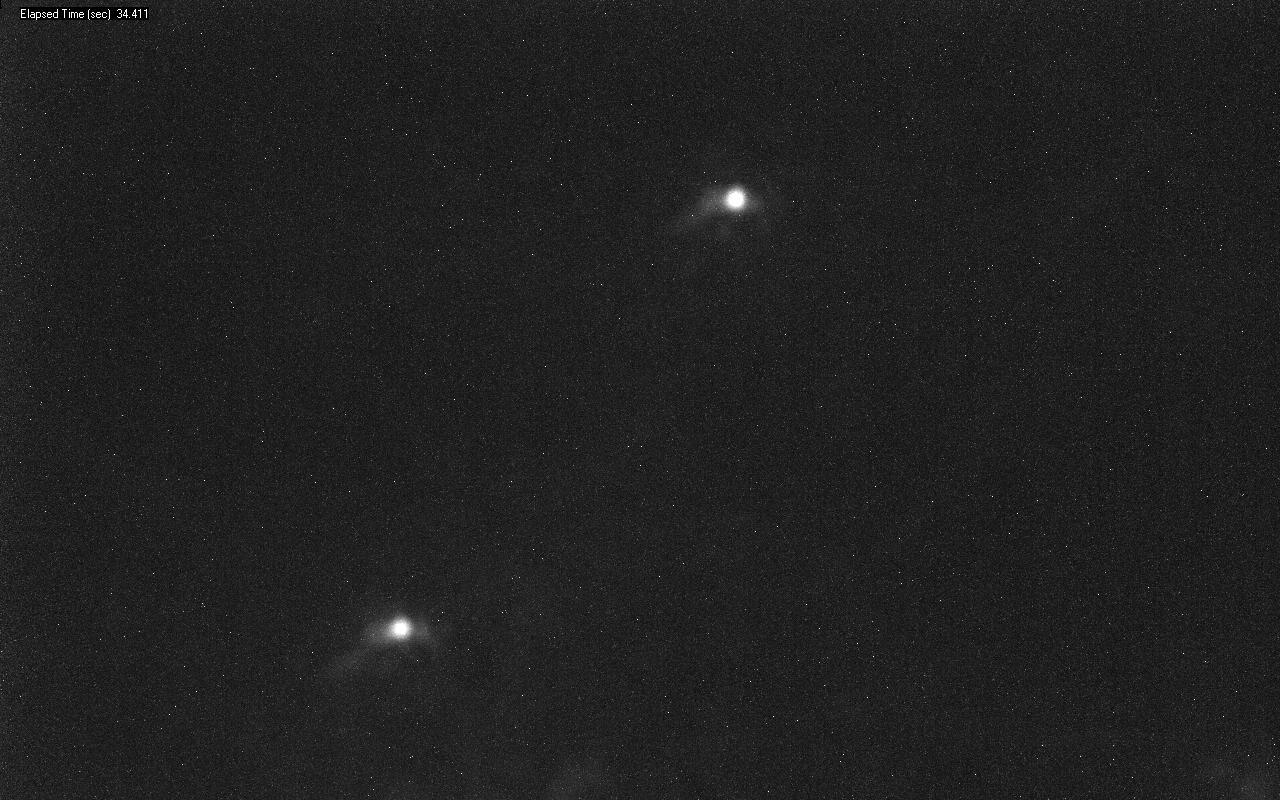Bead: (721, 187, 749, 213), (386, 615, 414, 640)
